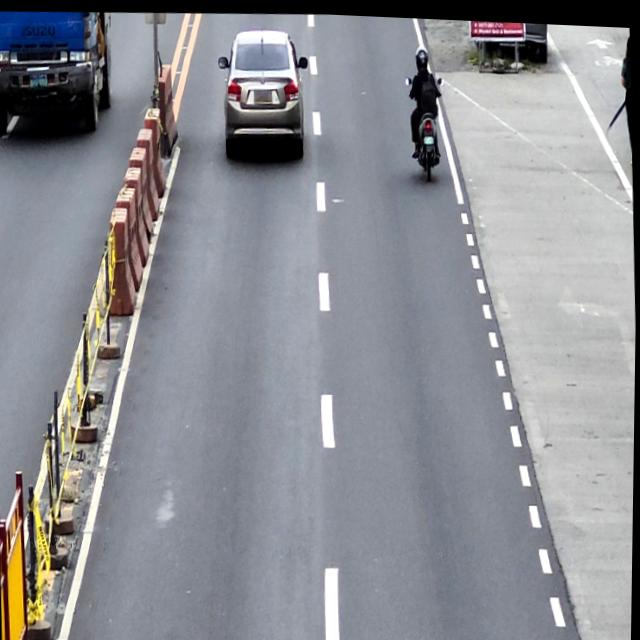Car: (216, 25, 311, 163)
License-Plate: (253, 87, 272, 100), (424, 132, 434, 141)
Motorcycle: (405, 71, 447, 180)
